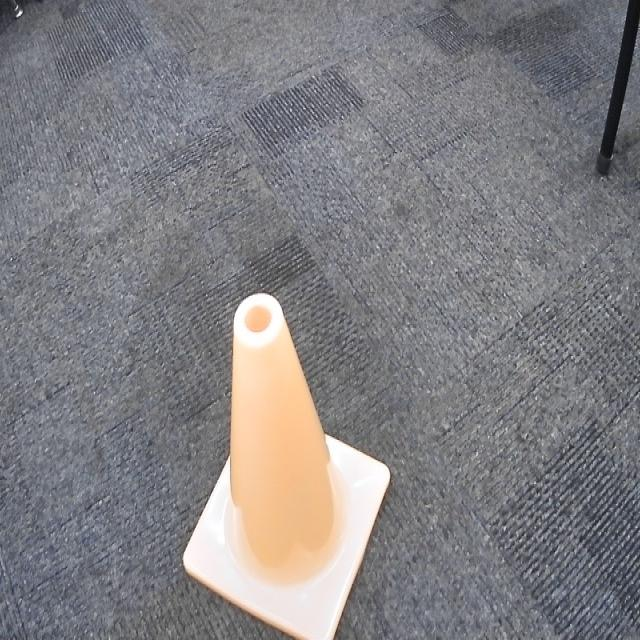cone: (181, 289, 393, 640)
